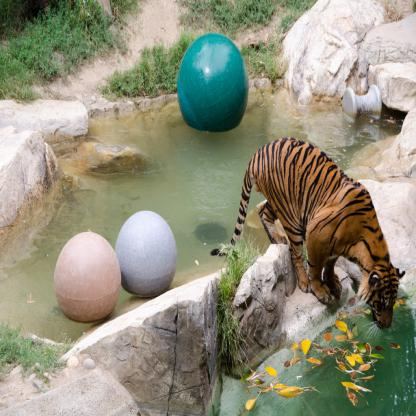Ball: (175, 35, 249, 135), (54, 233, 122, 320), (115, 210, 178, 297)
